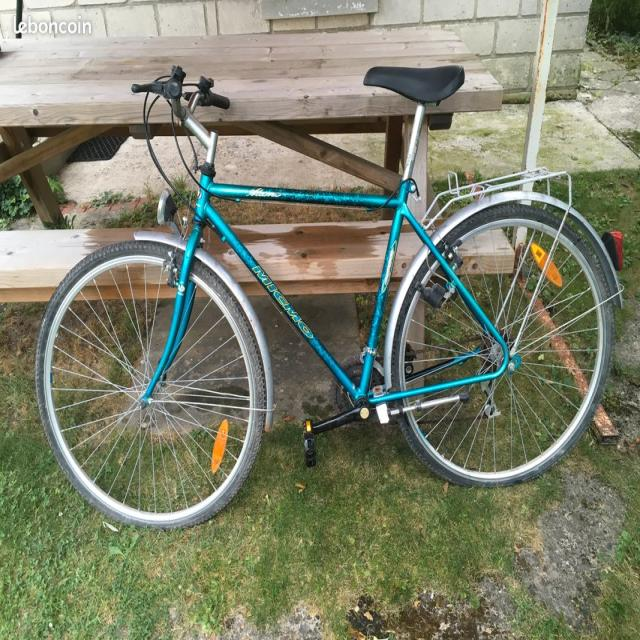Bike: (36, 66, 622, 528)
